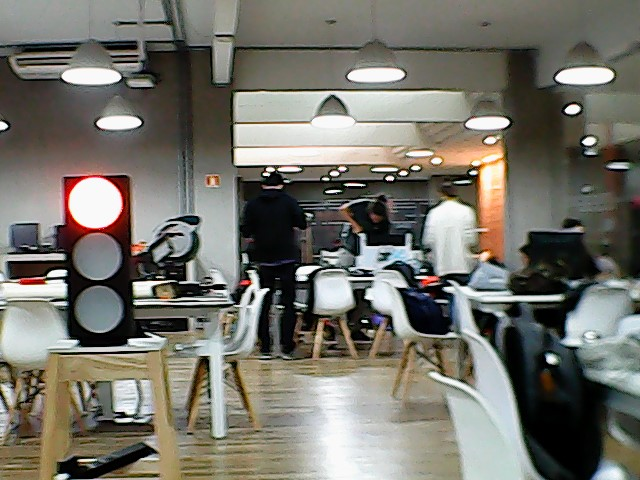vermelho: (58, 174, 139, 351)
